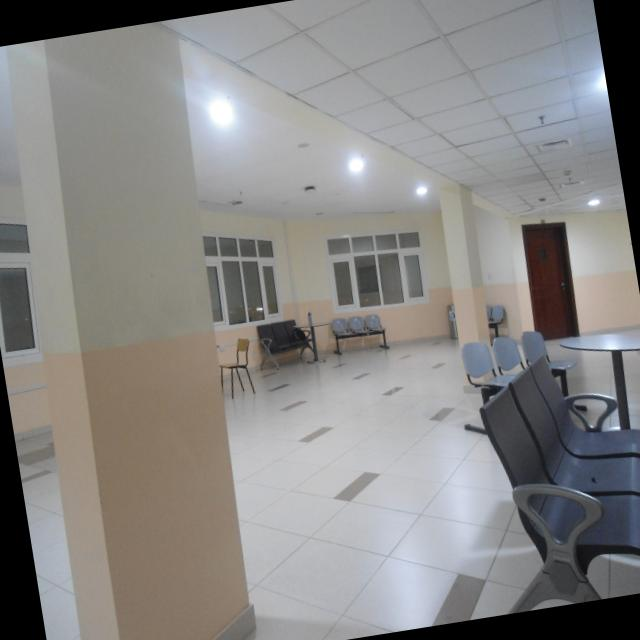bench: (463, 334, 640, 615), (452, 325, 582, 438), (252, 312, 321, 378), (322, 305, 394, 360), (484, 296, 512, 334)
chair: (216, 332, 261, 404)
door: (512, 206, 586, 344)
light: (207, 90, 236, 133), (593, 66, 611, 111), (344, 150, 366, 180), (412, 180, 434, 206), (587, 198, 607, 215)
pillar: (1, 21, 260, 640), (431, 169, 496, 389)
table: (558, 323, 640, 451)
window: (308, 212, 436, 319), (194, 216, 288, 333), (0, 201, 53, 373)
